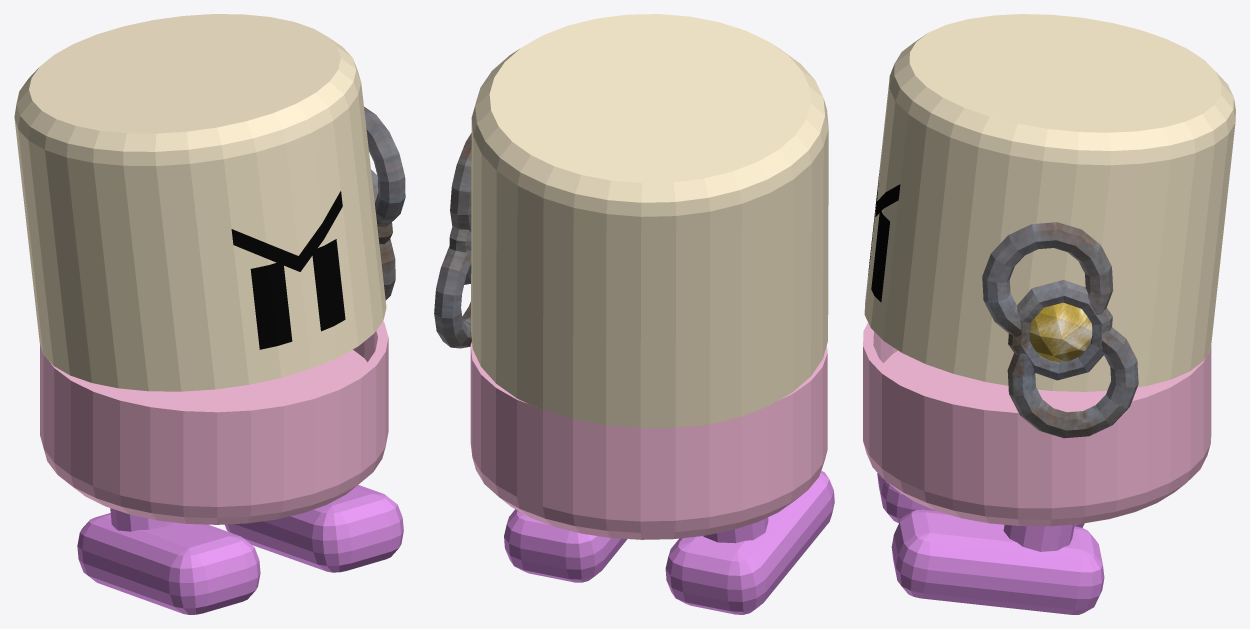
Rendered from Toasters026.obj.
3 views of the same model, side by side, from view 1: azimuth 30°, elevation 25°; view 2: azimuth 150°, elevation 25°; view 3: azimuth 270°, elevation 25° (orthographic). The views are drawn at different scales.
Visible parts, largest first — view 1: Head, Jaw, RightLeg, LeftLeg, WindupKey; view 2: Head, Jaw, RightLeg, LeftLeg, WindupKey; view 3: Head, Jaw, WindupKey, LeftLeg, RightLeg.
Part boxes in pixels (x1,y1,x2,y2): Head: (14, 14, 386, 391); Jaw: (40, 321, 388, 524); RightLeg: (77, 508, 260, 614); LeftLeg: (225, 485, 403, 572); WindupKey: (364, 106, 405, 300); Head: (471, 14, 828, 428); Jaw: (470, 342, 827, 539); RightLeg: (665, 471, 834, 614); LeftLeg: (504, 509, 627, 582); WindupKey: (434, 133, 471, 348); Head: (864, 14, 1235, 391); Jaw: (863, 322, 1211, 526); WindupKey: (982, 222, 1138, 438); LeftLeg: (891, 509, 1104, 614); RightLeg: (877, 473, 1084, 527).
Bounding box in the file's own units: 113 × 158 × 107.
Materials: 6 (2 with a texture image).
